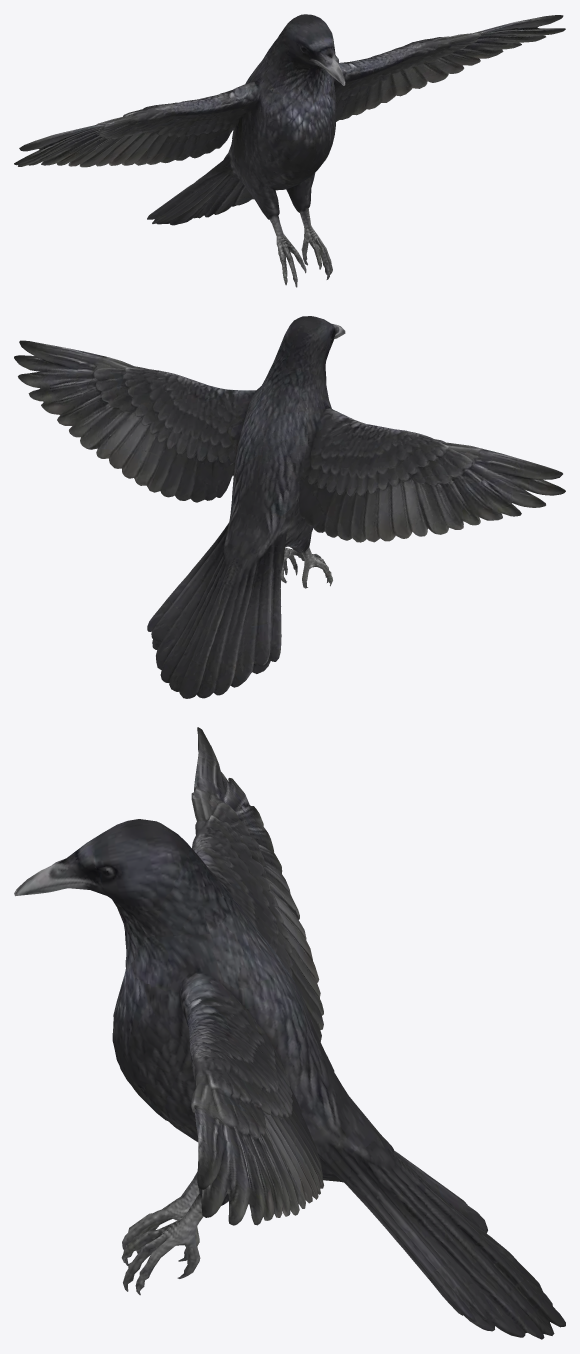
File: raven.glb
The picture shows the model from 3 angles, top to bottom: view 1: azimuth 30°, elevation 25°; view 2: azimuth 150°, elevation 25°; view 3: azimuth 270°, elevation 25°; orthographic projection. The views are drawn at different scales.
Size of the model in its own units: 1.9 by 0.9557 by 0.9524.
1 material, 1 textured.
